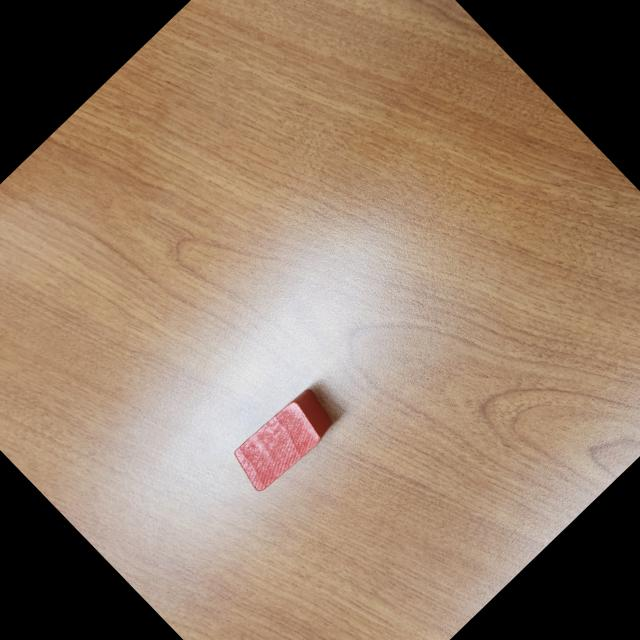red: (225, 383, 342, 498)
